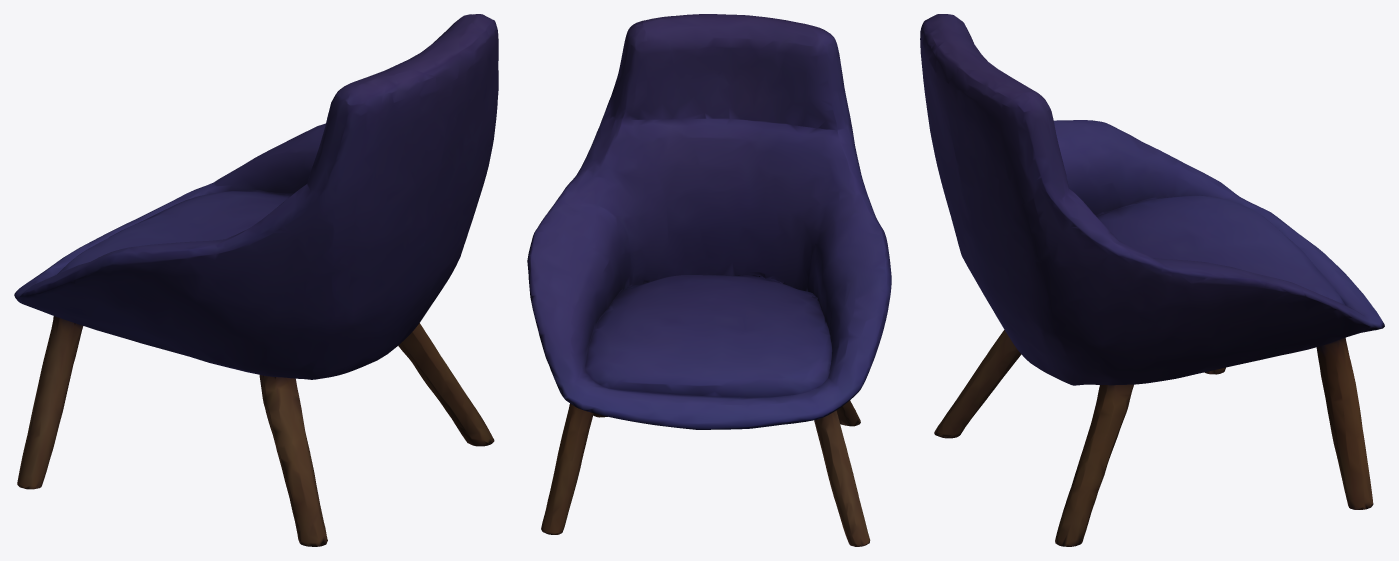
3 views of the same model, side by side, from view 1: azimuth 30°, elevation 25°; view 2: azimuth 150°, elevation 25°; view 3: azimuth 270°, elevation 25° (orthographic). The views are drawn at different scales.
Parts seen in each view (by area): view 1: instance_0015; view 2: instance_0015; view 3: instance_0015.
Boxes of the visible parts, x1,y1,x2,y2 form: instance_0015: [14, 14, 498, 546]; instance_0015: [527, 14, 891, 546]; instance_0015: [920, 14, 1384, 546].
Bounding box in the file's own units: 1.61 × 1.77 × 1.67.
